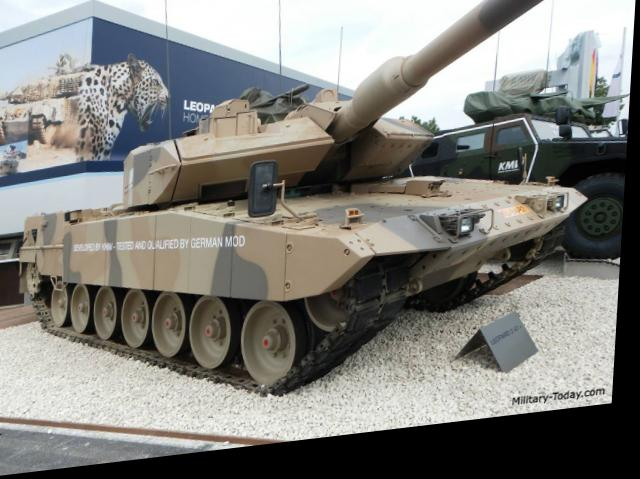tank: (9, 62, 597, 418)
